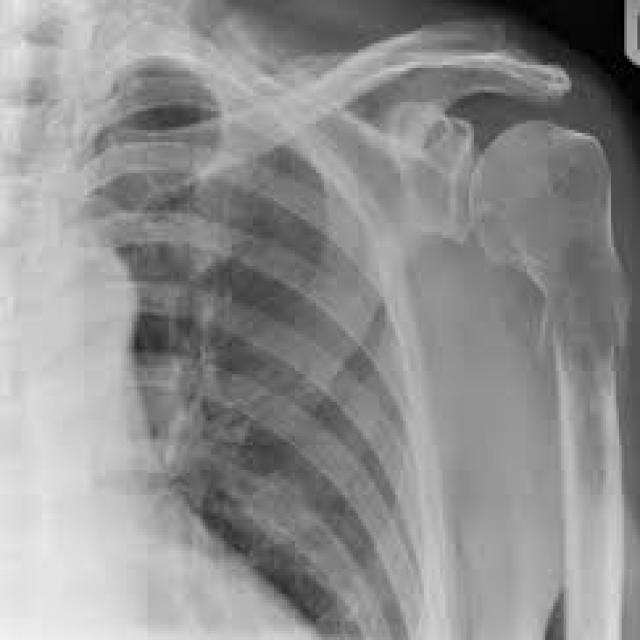pathological: (388, 66, 634, 438)
